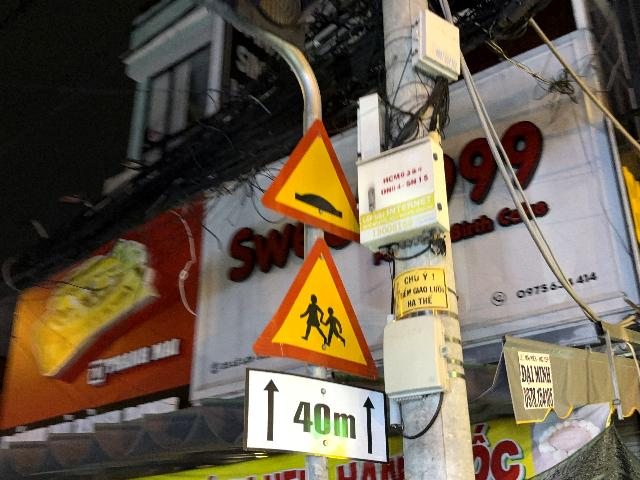duong-co-go-giam-toc: (261, 118, 360, 244)
tre-em-qua-duong: (253, 238, 377, 381)
